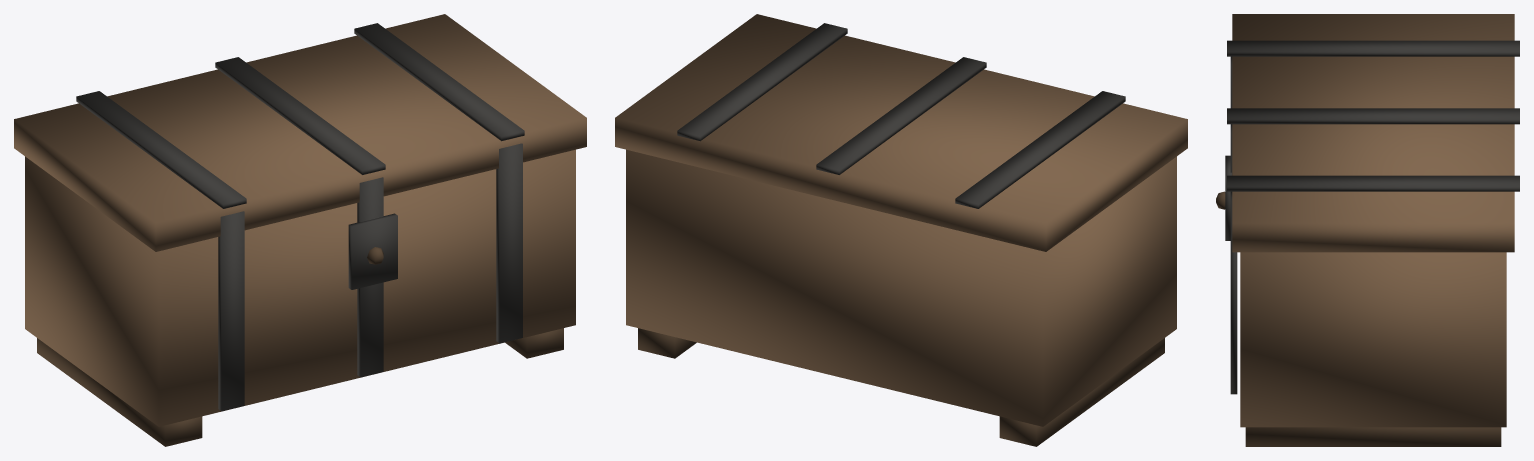
Rendered from mueble-arcon.glb.
3 views of the same model, side by side, from view 1: azimuth 30°, elevation 25°; view 2: azimuth 150°, elevation 25°; view 3: azimuth 270°, elevation 25° (orthographic).
Visible parts, largest first — view 1: Mueble_arcon; view 2: Mueble_arcon; view 3: Mueble_arcon.
Boxes of the visible parts, bbox=[...] form: Mueble_arcon: bbox=[14, 14, 586, 446]; Mueble_arcon: bbox=[615, 14, 1187, 446]; Mueble_arcon: bbox=[1216, 14, 1519, 446].
Size of the model in its own units: 0.93 by 0.49 by 0.5706.
